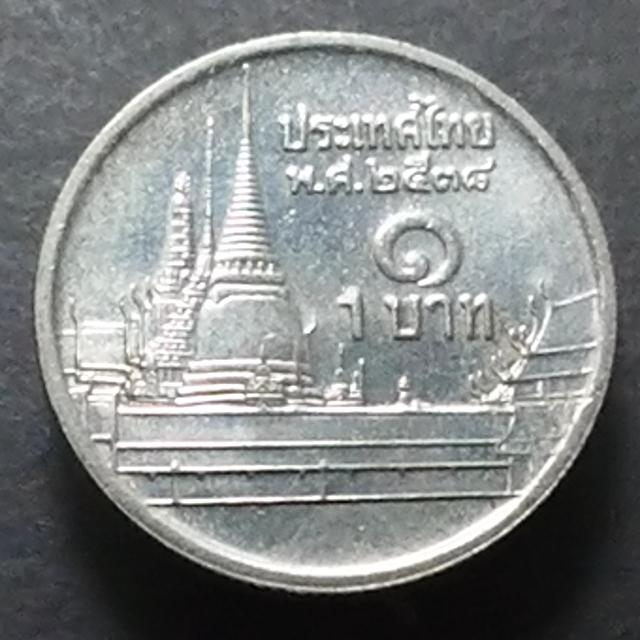1-baht: (30, 27, 626, 596)
